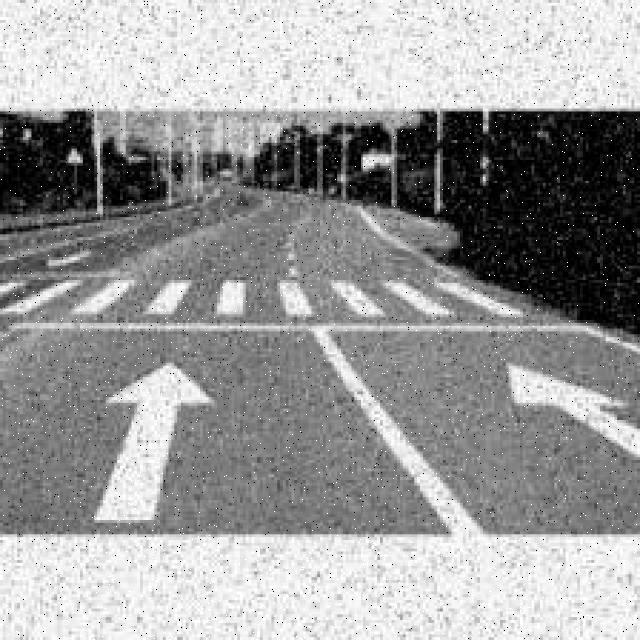crosswalk: (2, 269, 555, 324)
